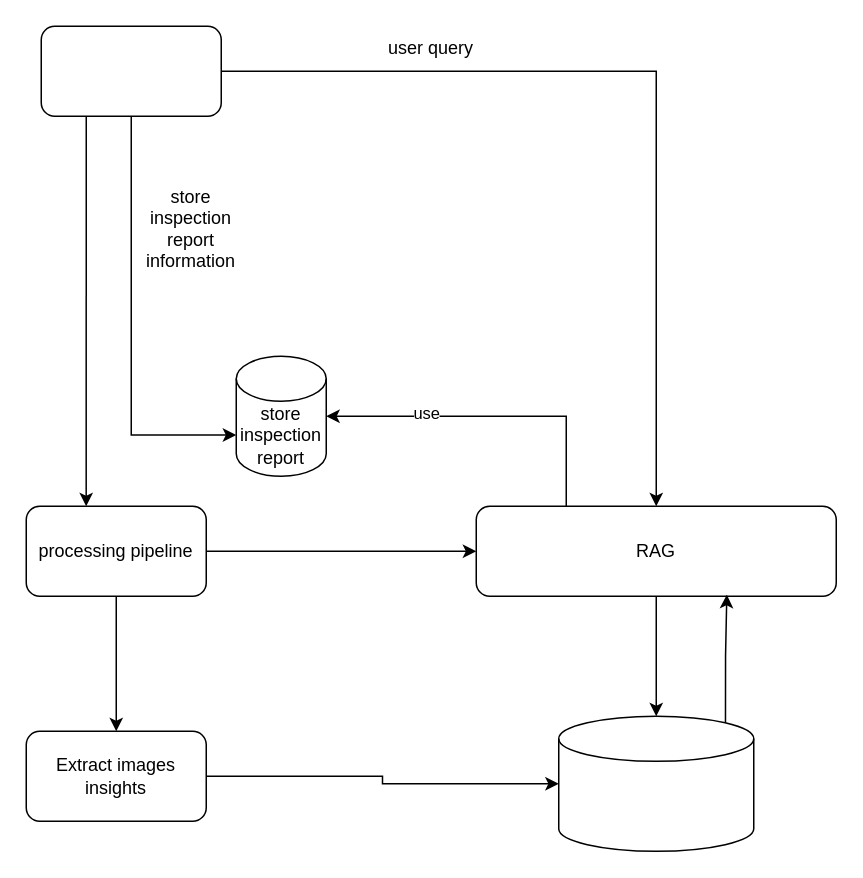
Some shapes in this 863 by 878 pixel diagram are drawn without their labels. The centre of each missing label's shape, as x and y in pixels:
"Client" belongs at [130,70].
"Unity CatalogExternal Model" belongs at [655,783].
